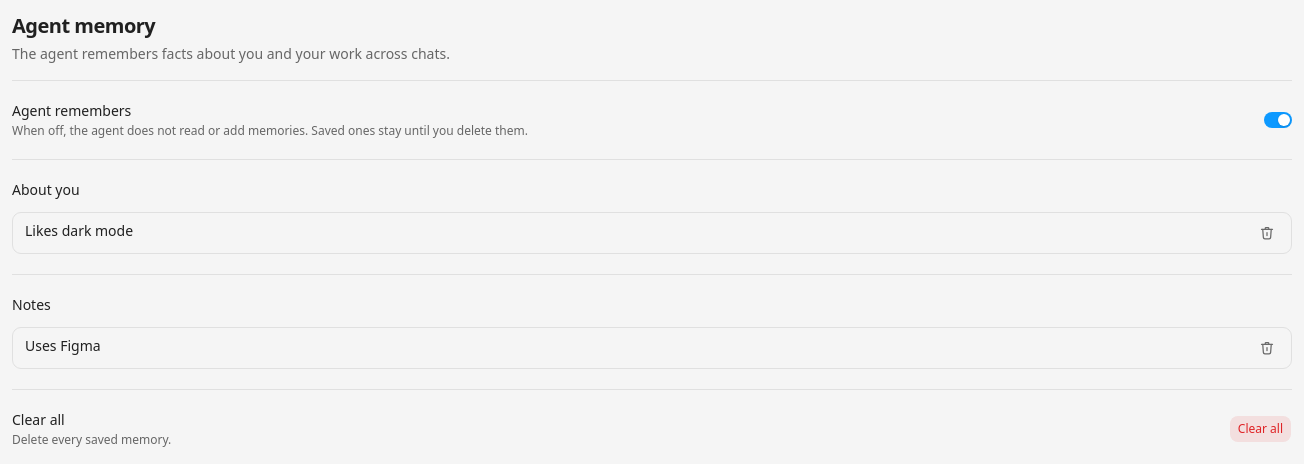
Test: MemorySection › confirms in the page before clearing all
Expected: the text "Uses Figma" is shown, [25,336,101,356]
Click the button "Clear all".
click(1260, 429)  # box [1229,415,1292,443]
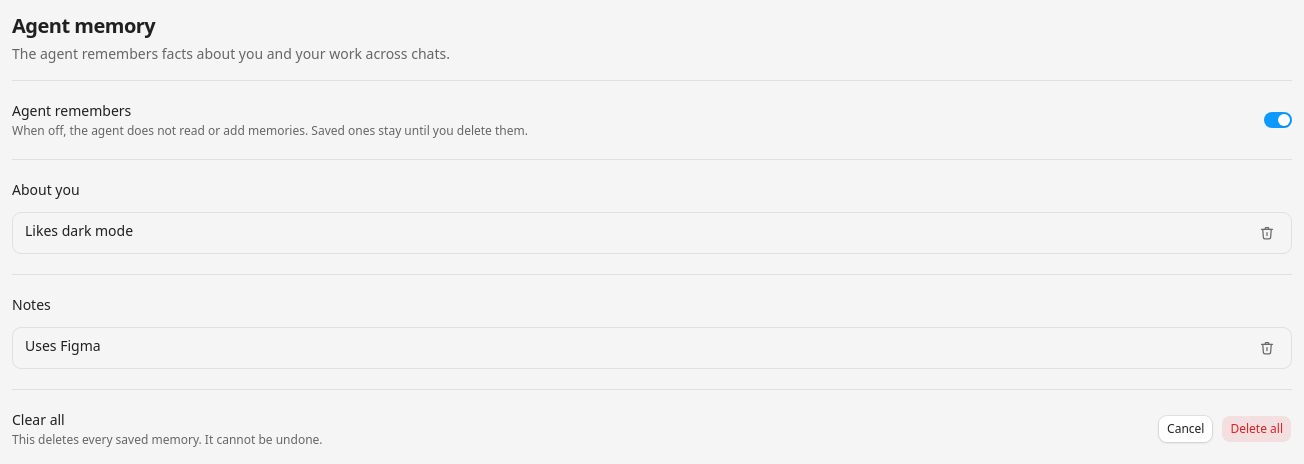
Click the button "Delete all".
click(1257, 429)  # box [1222,415,1292,443]
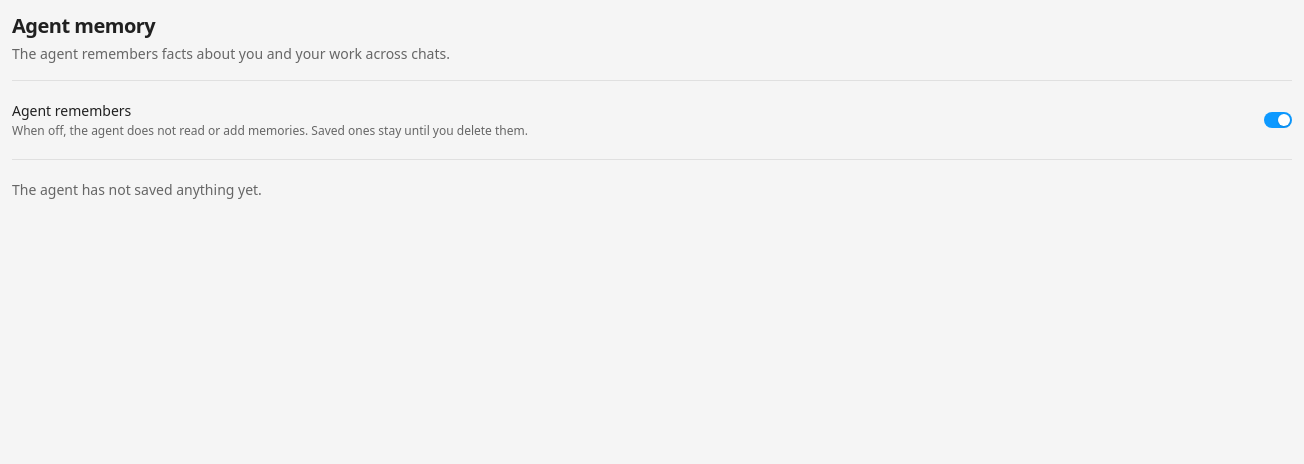
Result: the text "The agent has not saved anything yet." is shown at [12,180,262,199]
